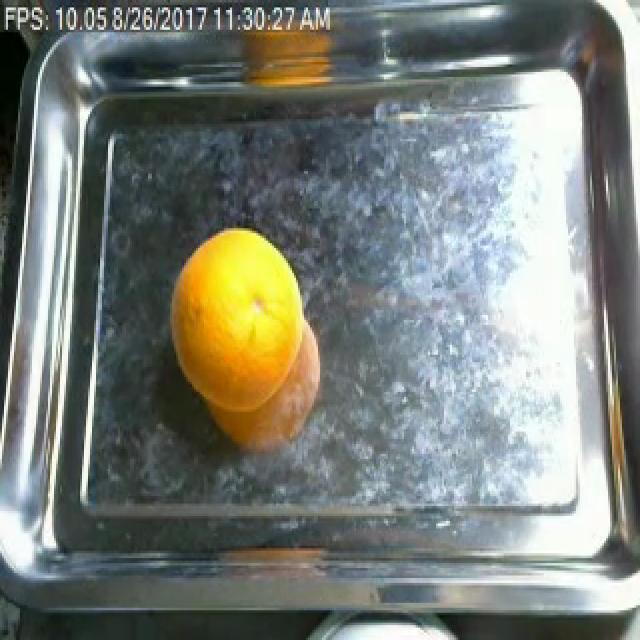Fruit: (162, 216, 320, 451), (234, 8, 342, 94)
